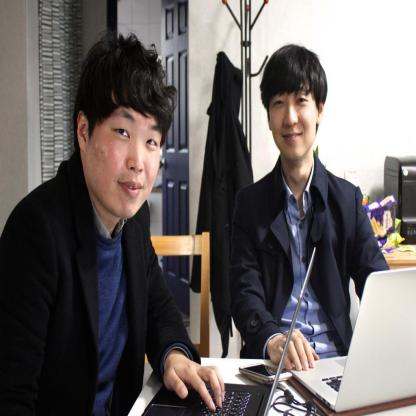board: (142, 246, 316, 416), (286, 267, 416, 413)
